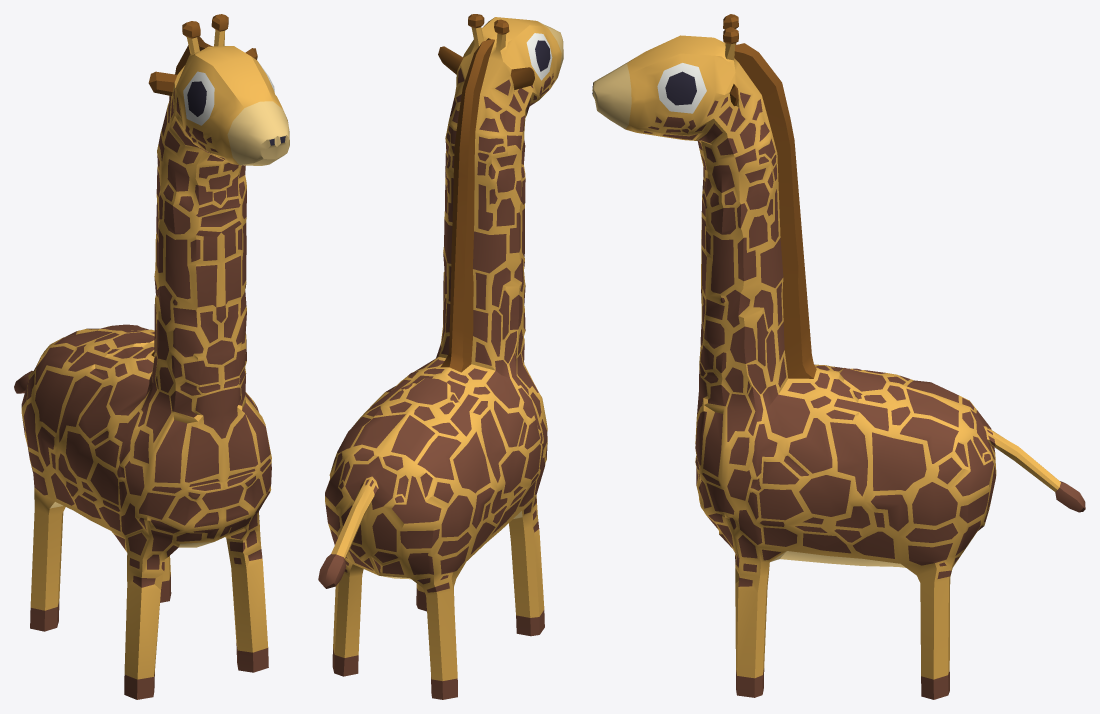
The model's file is giraffe4.glb.
3 renders of one model, left to right at view 1: azimuth 30°, elevation 25°; view 2: azimuth 150°, elevation 25°; view 3: azimuth 270°, elevation 25°, orthographic. The views are drawn at different scales.
Visible parts, largest first — view 1: Giraffe; view 2: Giraffe; view 3: Giraffe.
Part boxes in pixels (bbox=[...]): Giraffe: bbox=[14, 14, 289, 699]; Giraffe: bbox=[318, 14, 563, 699]; Giraffe: bbox=[592, 14, 1085, 699].
Bounding box in the file's own units: 0.6817 × 2.75 × 1.91.
